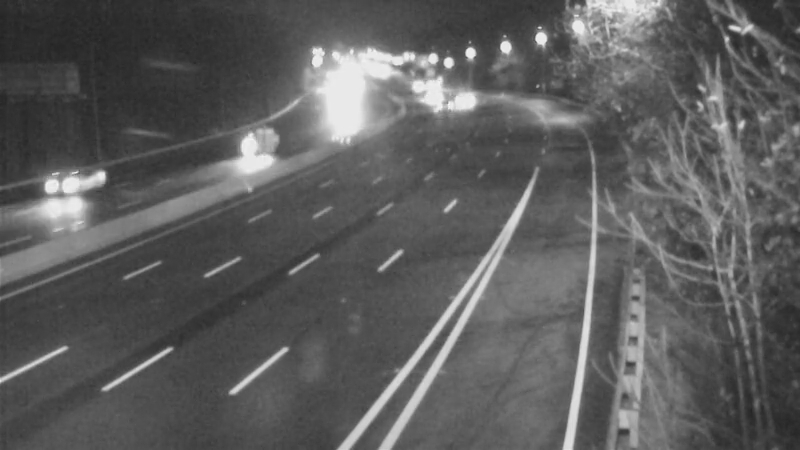vehicle: (21, 149, 101, 229), (437, 75, 487, 125), (417, 81, 467, 131), (219, 119, 269, 169)
